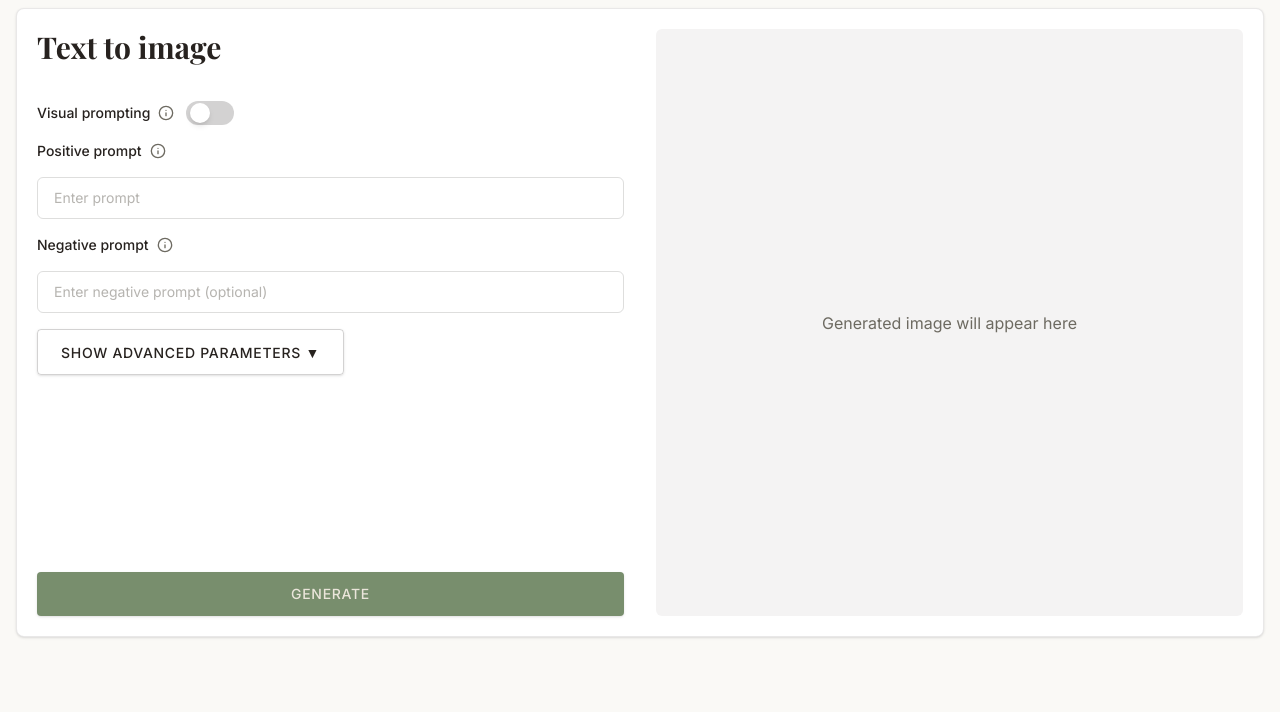
Test: TextToImage › should show advanced parameters
Click the button "Show advanced parameters ▼" at (190, 352), box [37, 329, 344, 375]
(page scrolled)
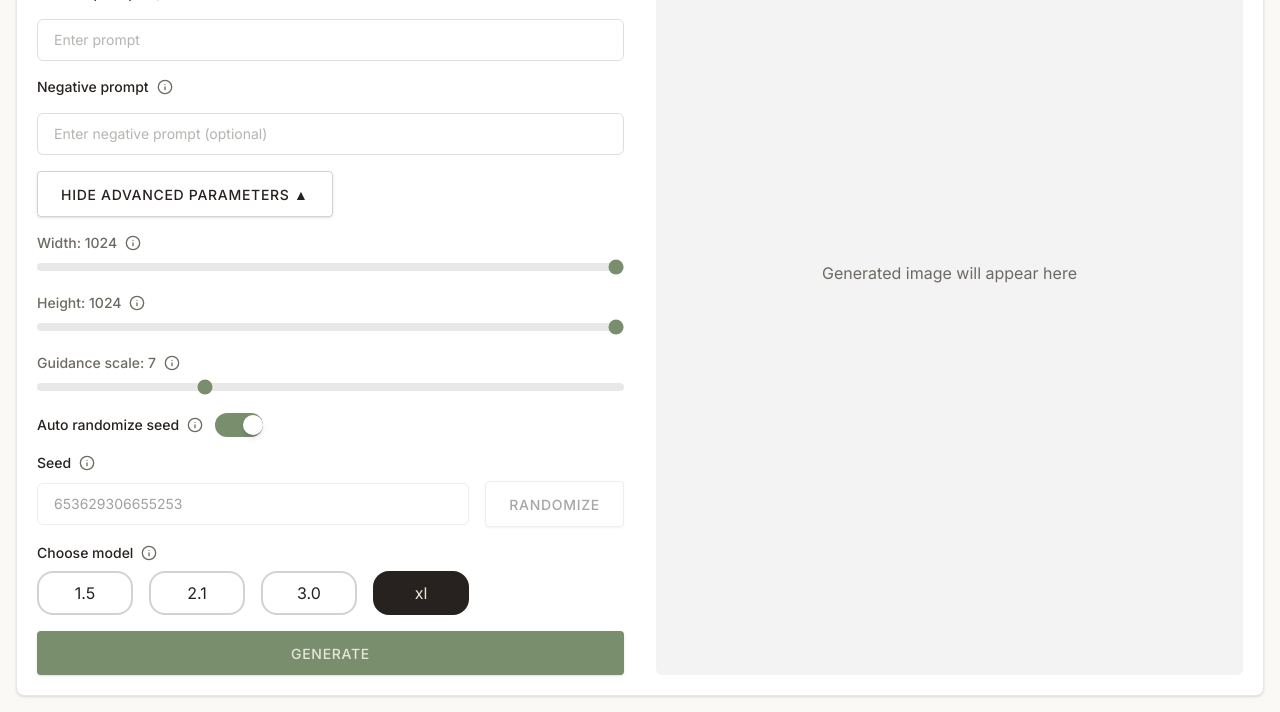
Check: the text "Guidance scale: 7" is shown, box [37, 353, 156, 373]
Check: the text "Seed" is shown, box [37, 453, 71, 473]
Check: the text "Choose model" is shown, box [37, 543, 133, 563]
